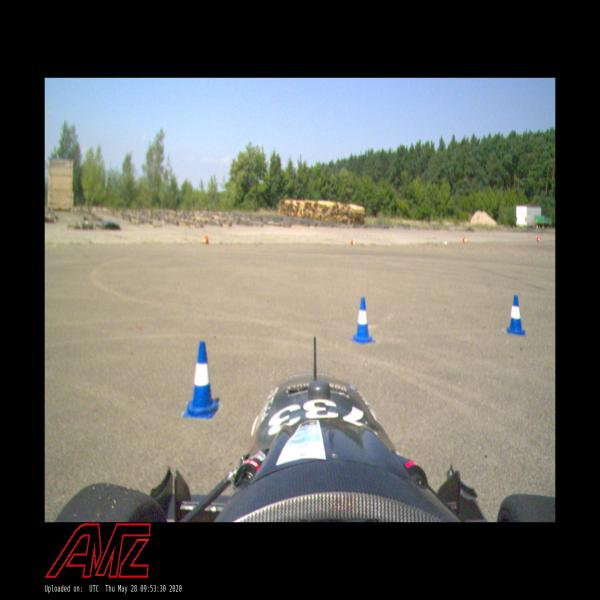blue_cone: (182, 340, 220, 419), (350, 297, 375, 344), (506, 294, 525, 335)
orange_cone: (202, 236, 209, 245), (462, 236, 468, 243), (351, 239, 357, 245), (537, 236, 540, 242)
